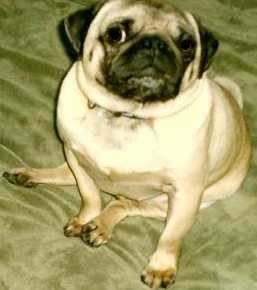dog: (36, 3, 254, 265)
